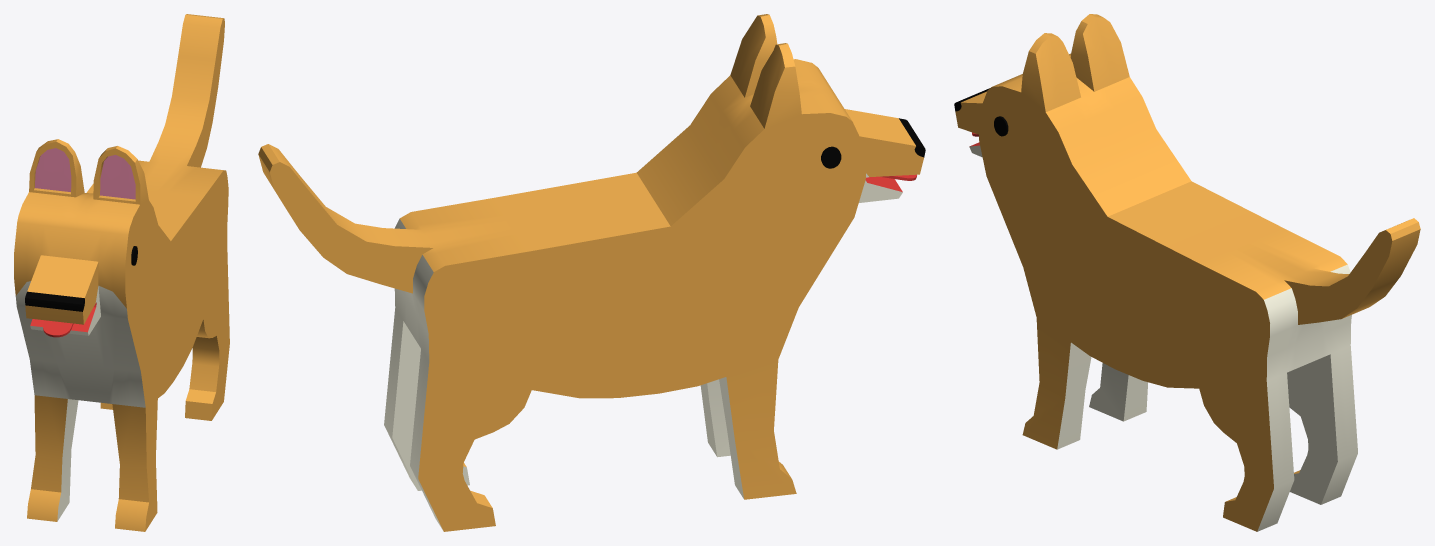
The model's file is dog.glb.
The picture shows the model from 3 angles, left to right: view 1: azimuth 30°, elevation 25°; view 2: azimuth 150°, elevation 25°; view 3: azimuth 270°, elevation 25°; orthographic projection. The views are drawn at different scales.
Parts seen in each view (by area): view 1: Plane, Cube; view 2: Plane; view 3: Plane.
Part boxes in pixels (x1,y1,x2,y2): Plane: [14, 14, 229, 531]; Cube: [43, 320, 73, 337]; Plane: [258, 14, 925, 531]; Plane: [954, 14, 1420, 531].
Size of the model in its own units: 2.06 by 1.91 by 2.06.
1 material, 1 textured.
